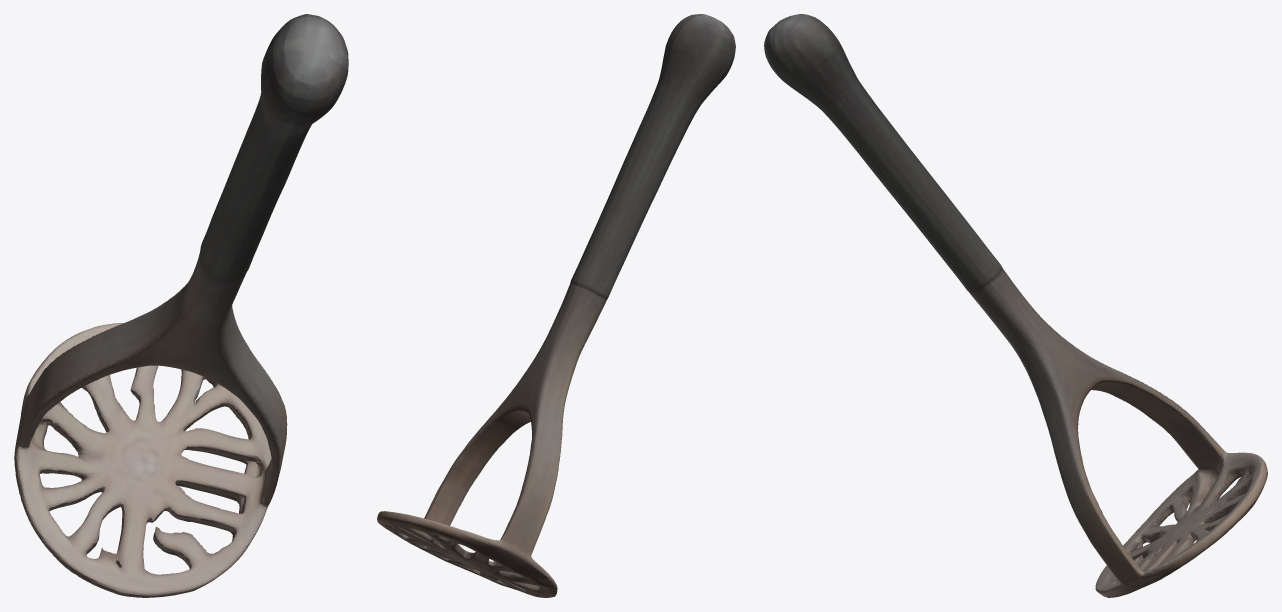
Rendered from frame_0011_source_000011_object.glb.
The picture shows the model from 3 angles, left to right: view 1: azimuth 30°, elevation 25°; view 2: azimuth 150°, elevation 25°; view 3: azimuth 270°, elevation 25°; orthographic projection. The views are drawn at different scales.
Visible parts, largest first — view 1: world; view 2: world; view 3: world.
Boxes of the visible parts, x1,y1,x2,y2 form: world: (14, 14, 348, 597); world: (377, 14, 735, 597); world: (764, 14, 1267, 597).
Size of the model in its own units: 0.0823 by 0.2261 by 0.19.
